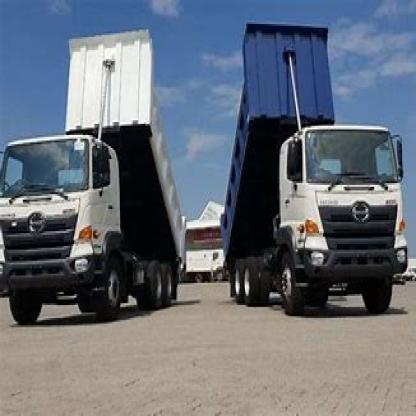dump_truck: (8, 11, 189, 338), (227, 7, 408, 318)
